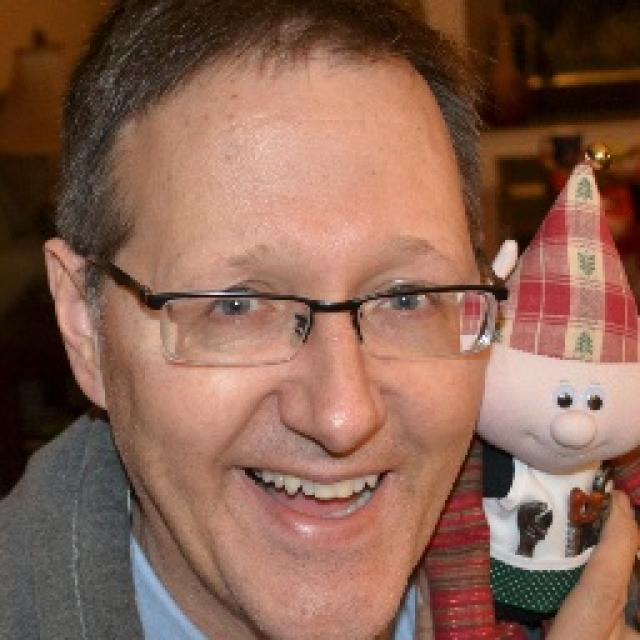earlobe: (41, 238, 111, 410)
